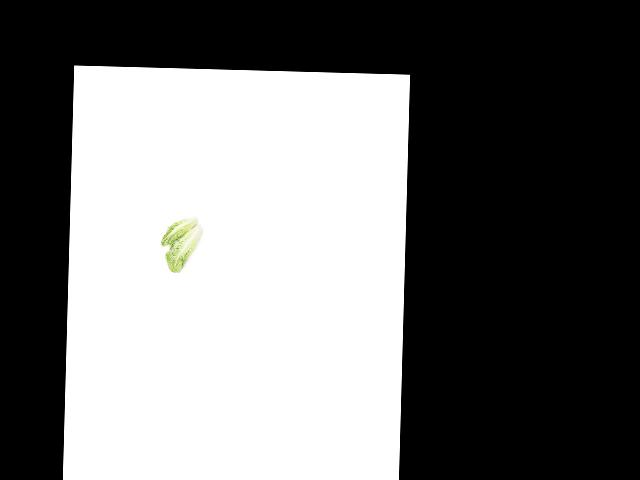lettuce: (163, 228, 204, 273)
